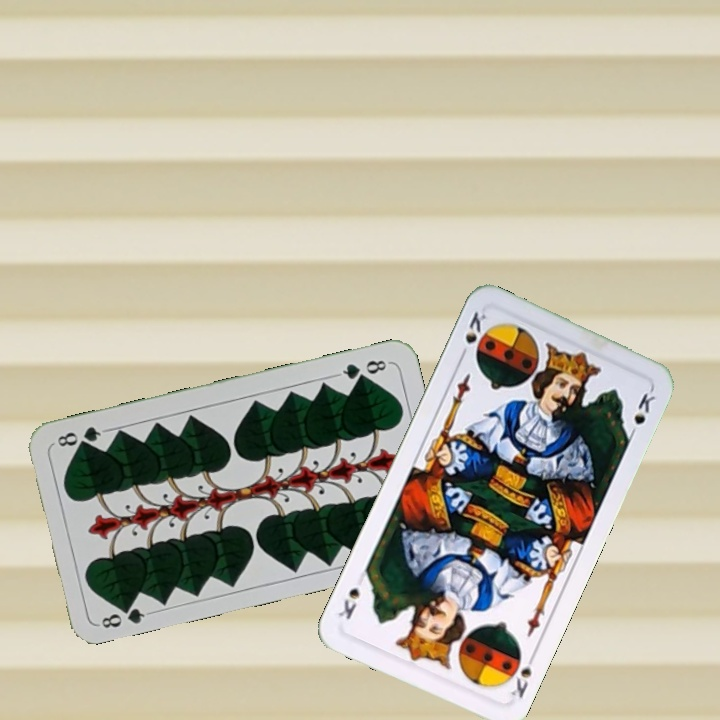G8: (97, 599, 154, 631), (334, 356, 392, 383)
SK: (455, 307, 489, 362), (507, 648, 539, 701)
